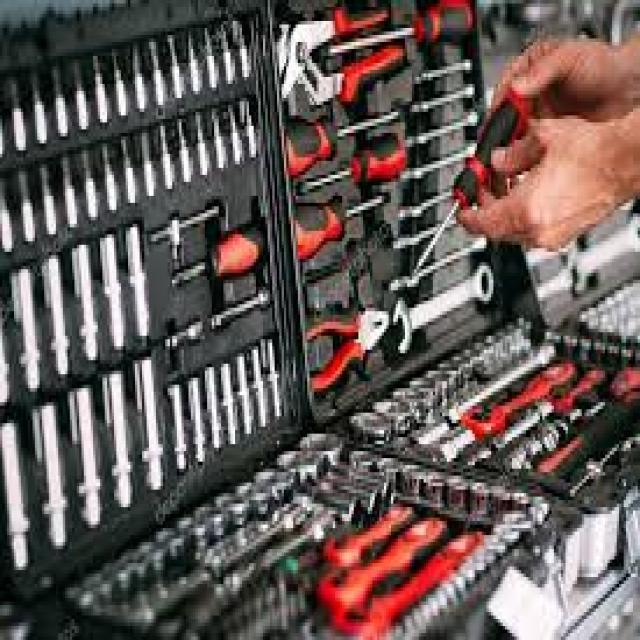screwdriver: (412, 77, 533, 280), (321, 0, 477, 59), (291, 183, 394, 260), (168, 220, 272, 290), (296, 131, 408, 194)
